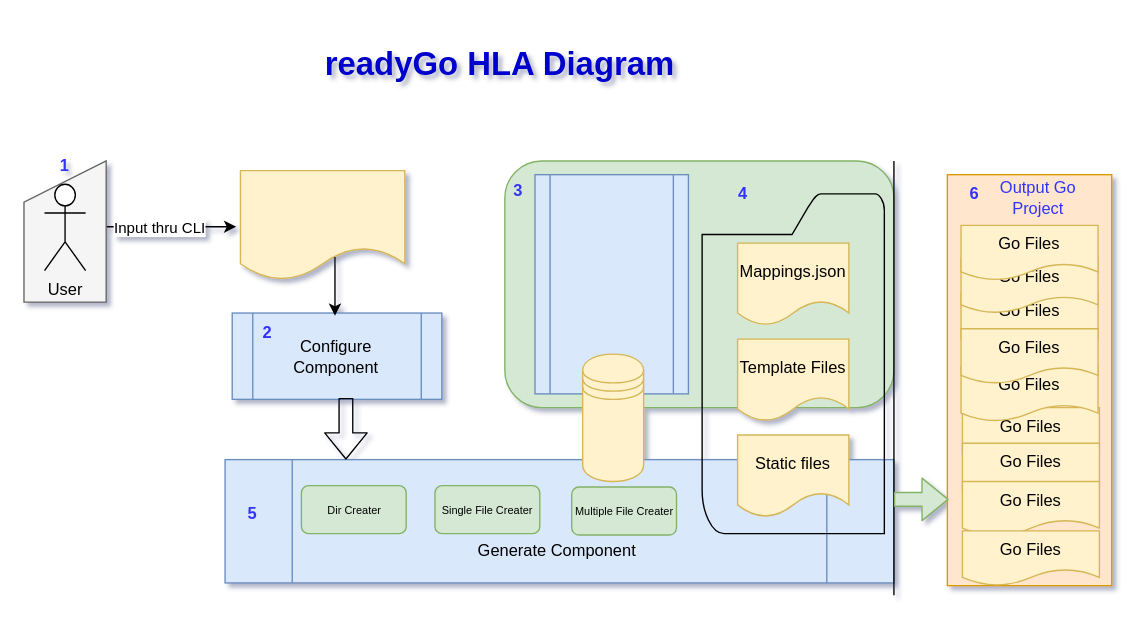
Image size: 1144x629. Some labels were removed from this diagram. The centre of each missing label's shape, as x and y in pixels:
"Config file in .json | .yaml" belongs at point (322, 224).
"In Mem Storage" belongs at point (612, 417).
"Mappings Component" belongs at point (611, 283).
